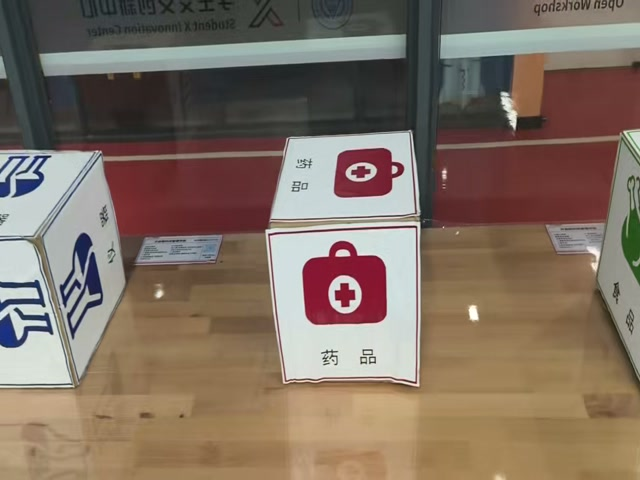Cube_ins: (0, 150, 105, 243)
Cube_medicine: (262, 136, 416, 233)
